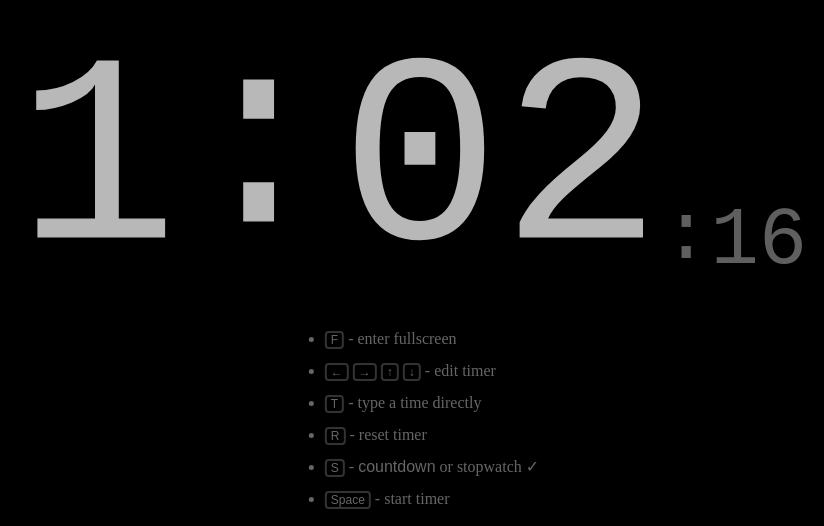
Test: quantizes stopwatch seconds while running at one hour or more
The image size is (824, 526).
Click the button "Space" at (348, 500), box [325,491,371,509]
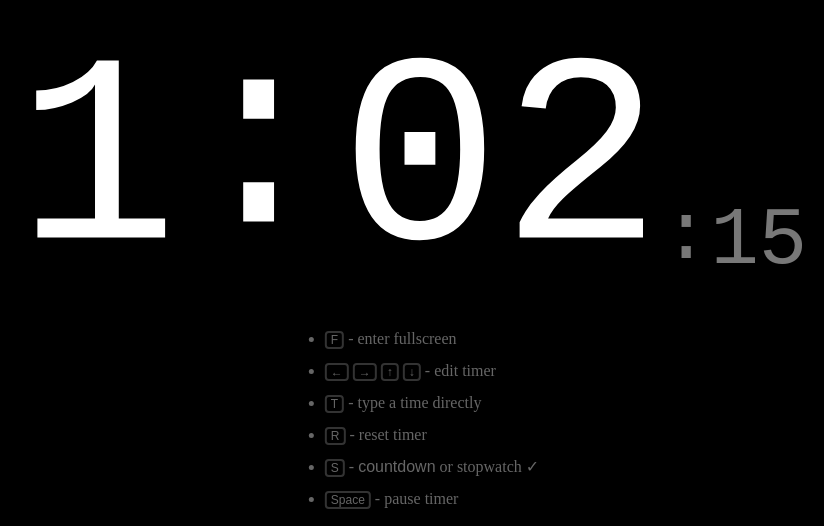
Now the element with class "clock" reads "1 : 02 : 15", box [17,17,807,285]
